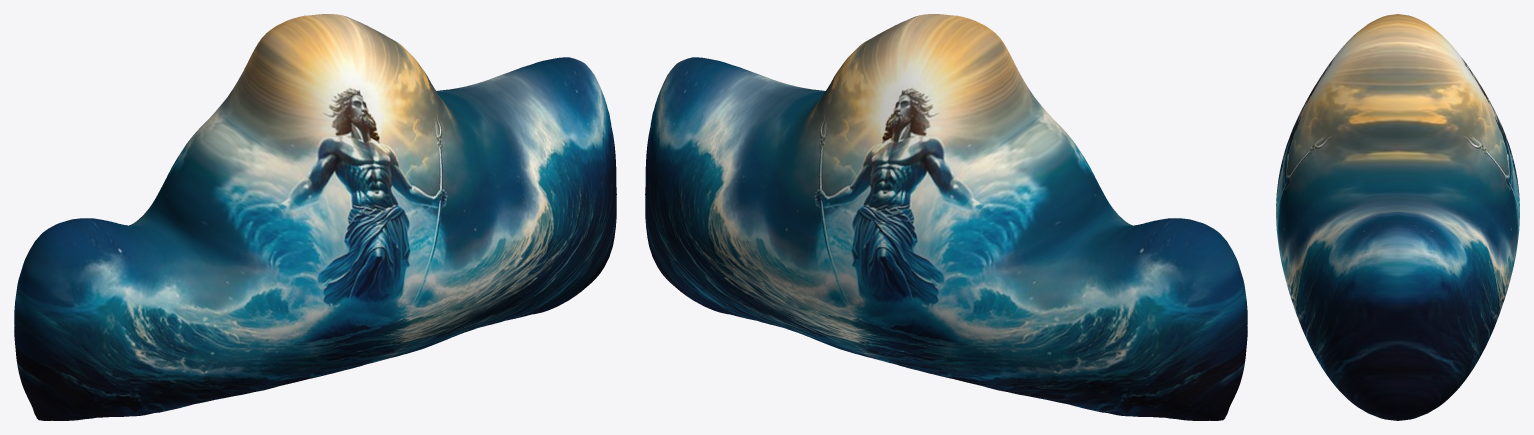
The model's file is asset.glb.
3 views of the same model, side by side, from view 1: azimuth 30°, elevation 25°; view 2: azimuth 150°, elevation 25°; view 3: azimuth 270°, elevation 25° (orthographic). The views are drawn at different scales.
Bounding box in the file's own units: 9.1 × 5.14 × 3.72.
Materials: 1 (1 with a texture image).
